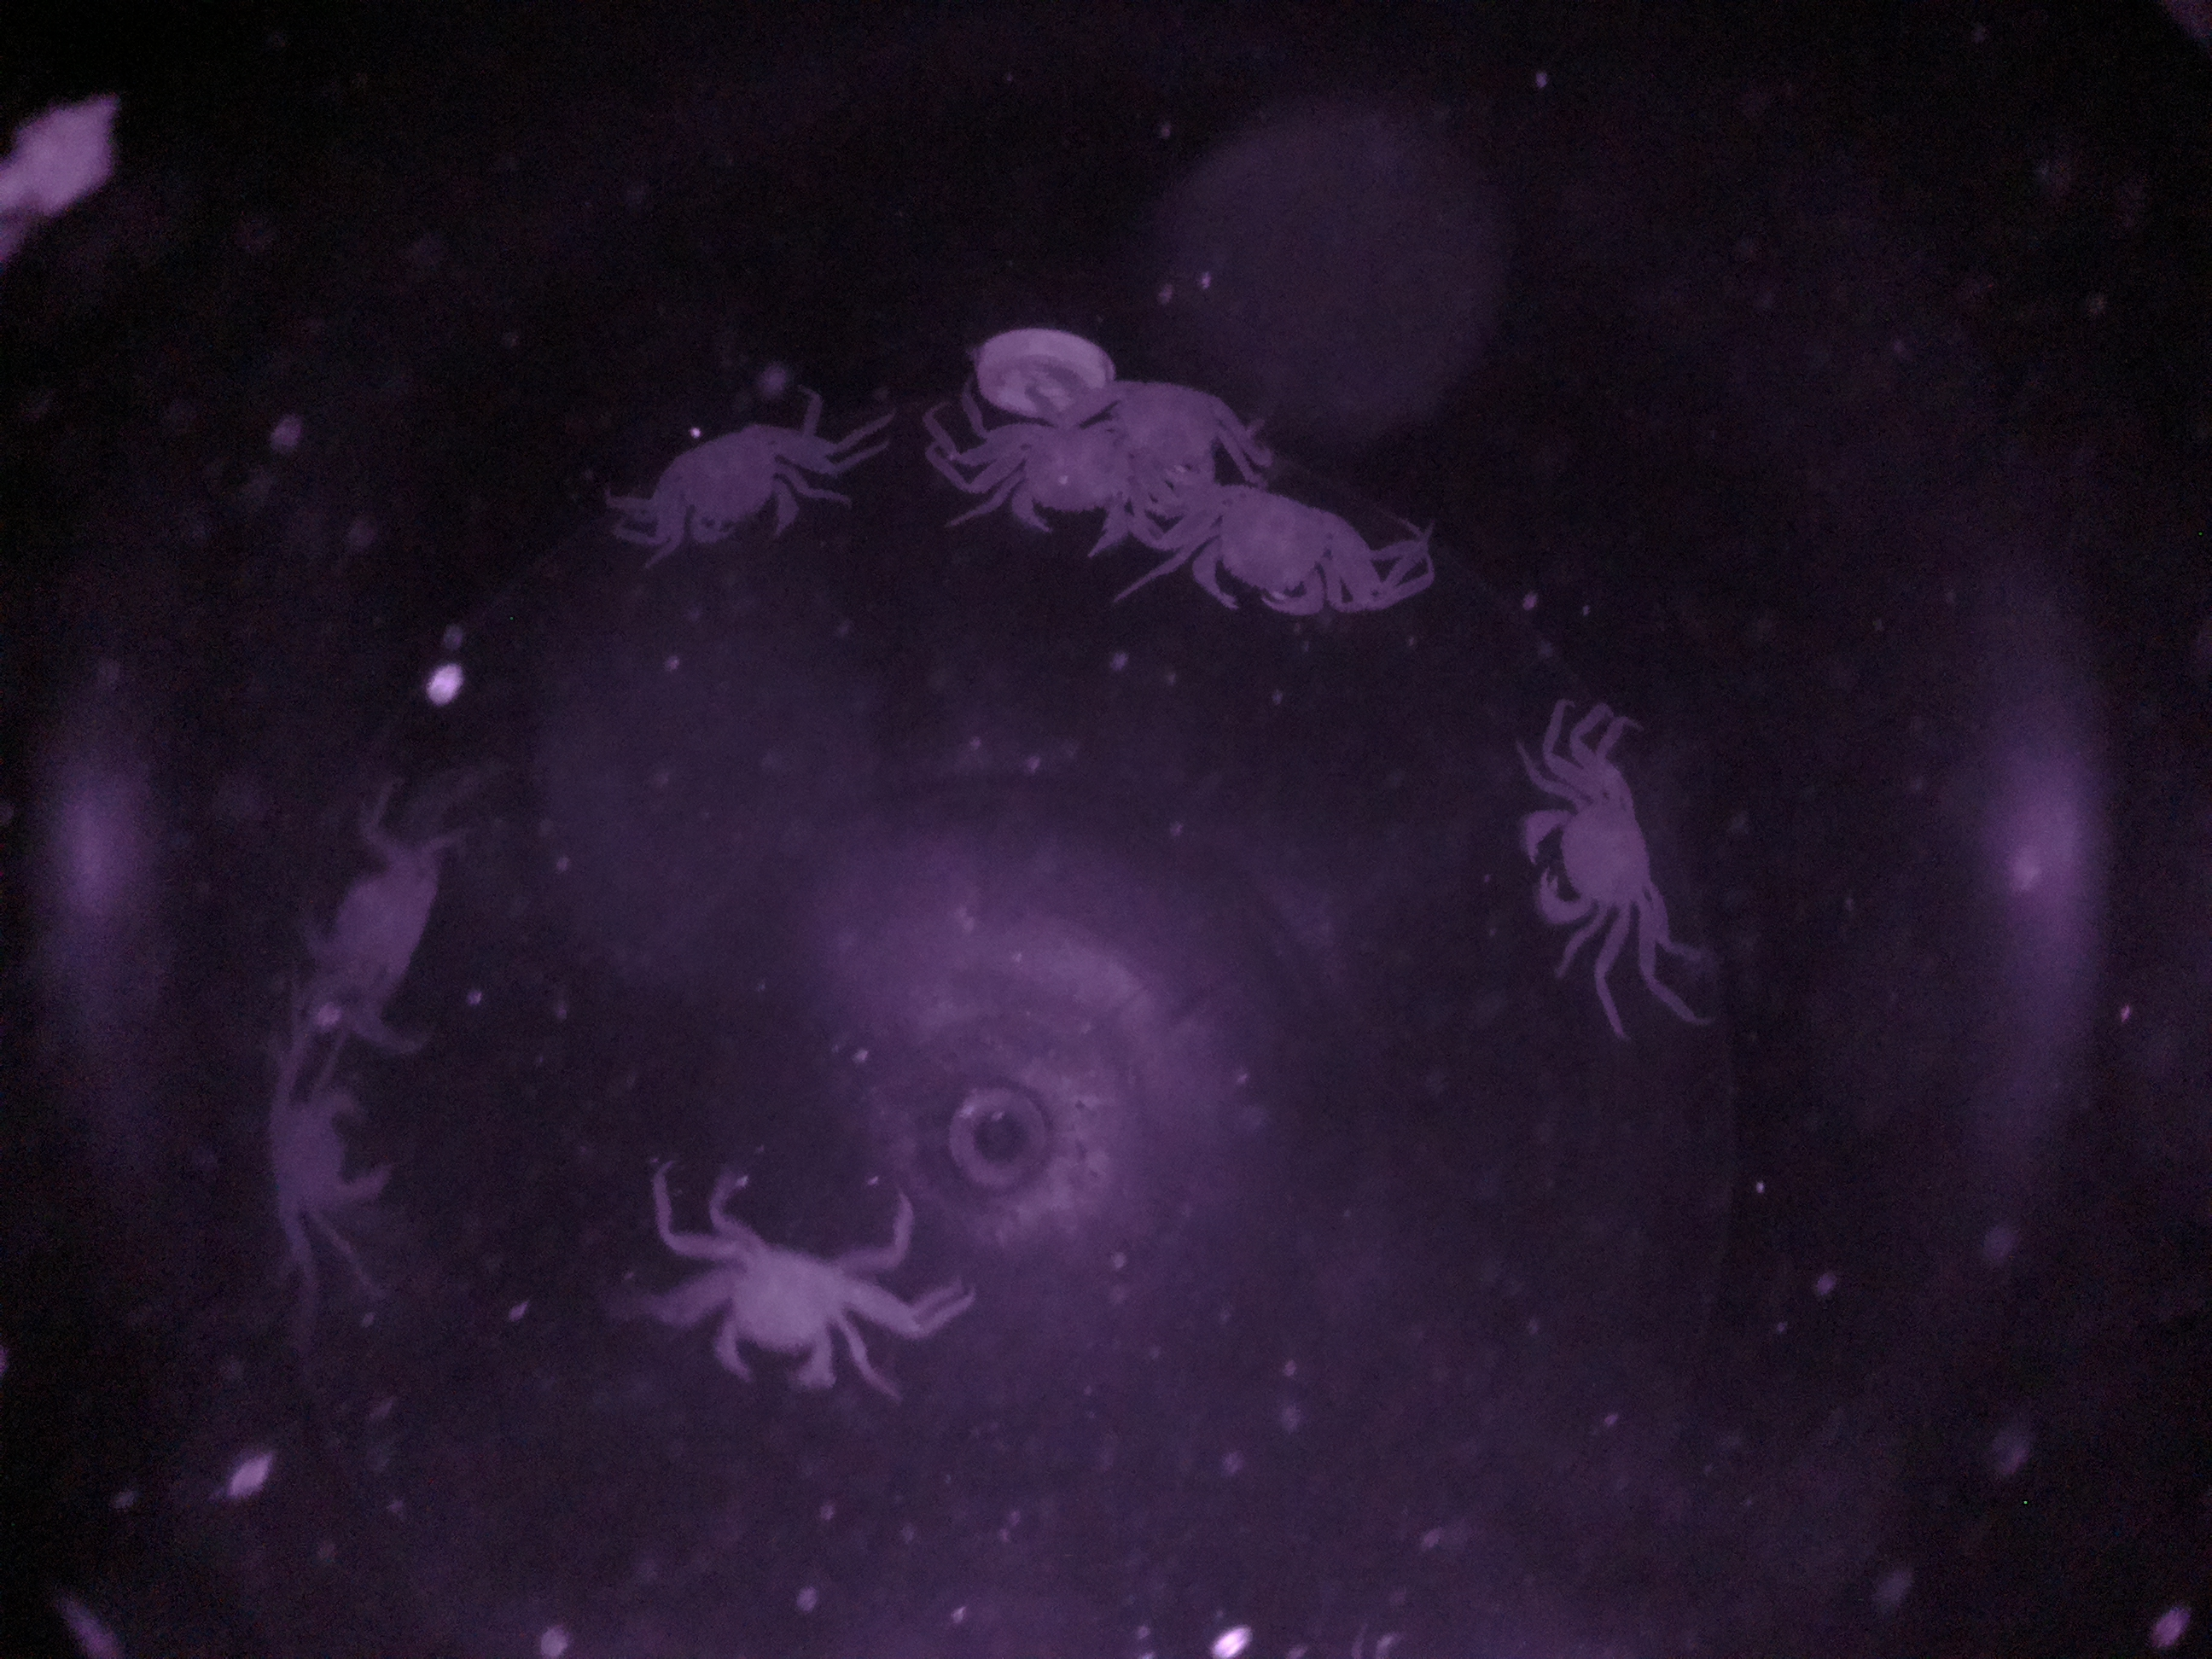Crab: (660, 1199, 878, 1420), (1496, 742, 1676, 971), (1186, 458, 1381, 643), (641, 392, 820, 580)
